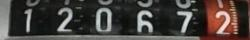digits: (135, 0, 155, 36), (174, 0, 194, 35), (213, 0, 231, 37), (94, 5, 113, 34), (56, 6, 73, 34), (23, 8, 32, 31)
